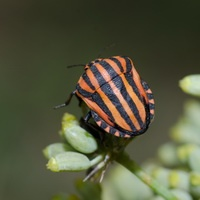insect: (75, 56, 153, 137)
